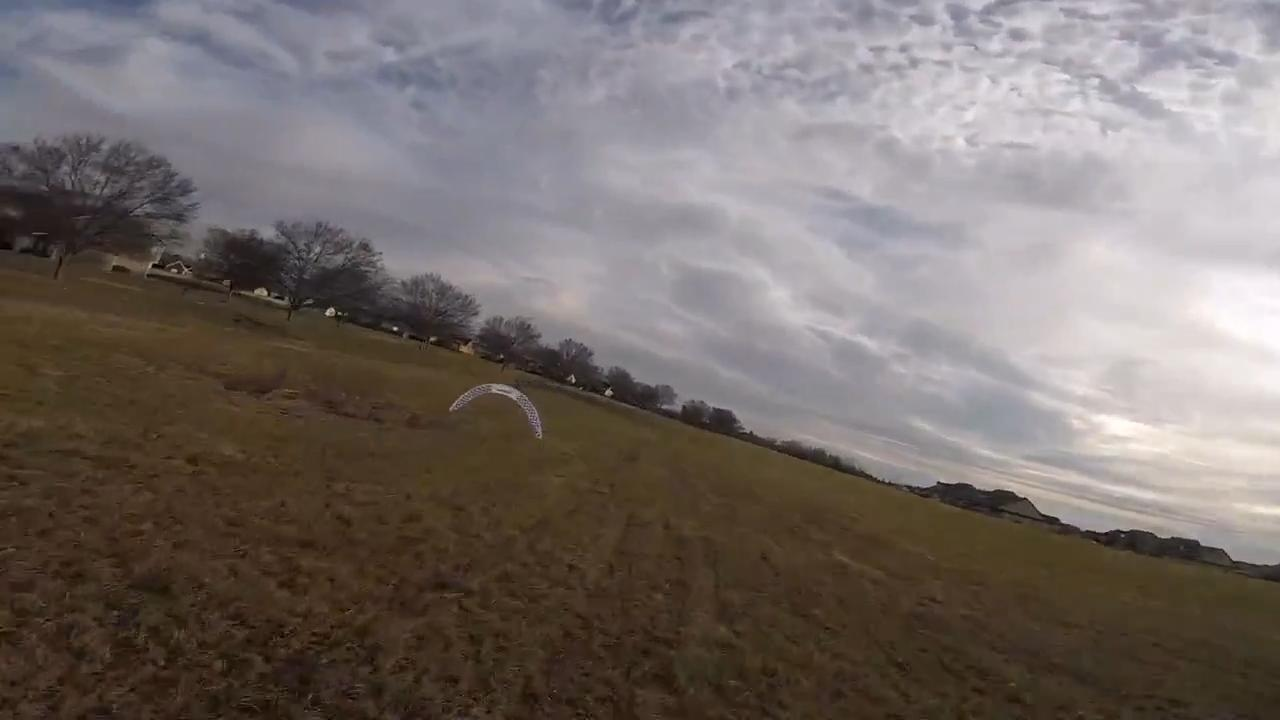gate: (444, 382, 544, 442)
